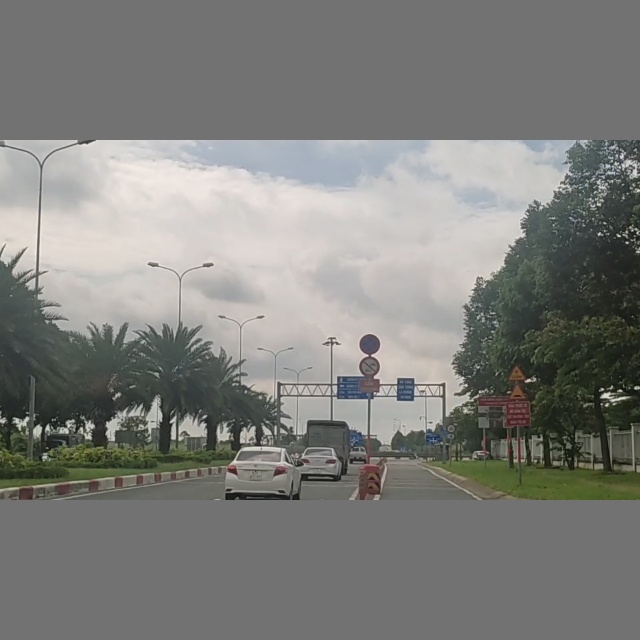P.111: (359, 355, 379, 377)
P.130: (358, 335, 380, 353)
W.221b: (509, 383, 527, 401)
W.245a: (508, 363, 528, 381)
